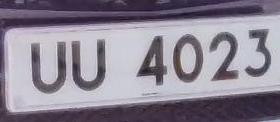0: (168, 27, 211, 88)
2: (204, 25, 246, 86)
3: (240, 21, 279, 85)
4: (132, 28, 173, 93)
U: (24, 36, 71, 99), (69, 35, 116, 96)
